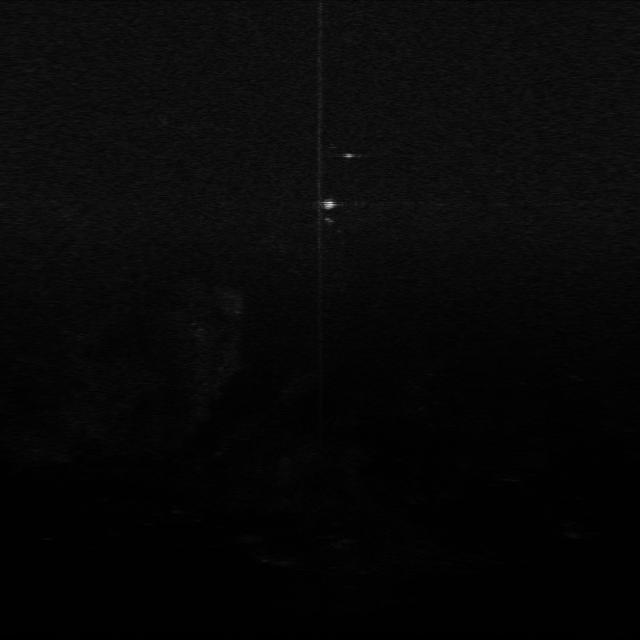rov: (318, 195, 341, 213)
